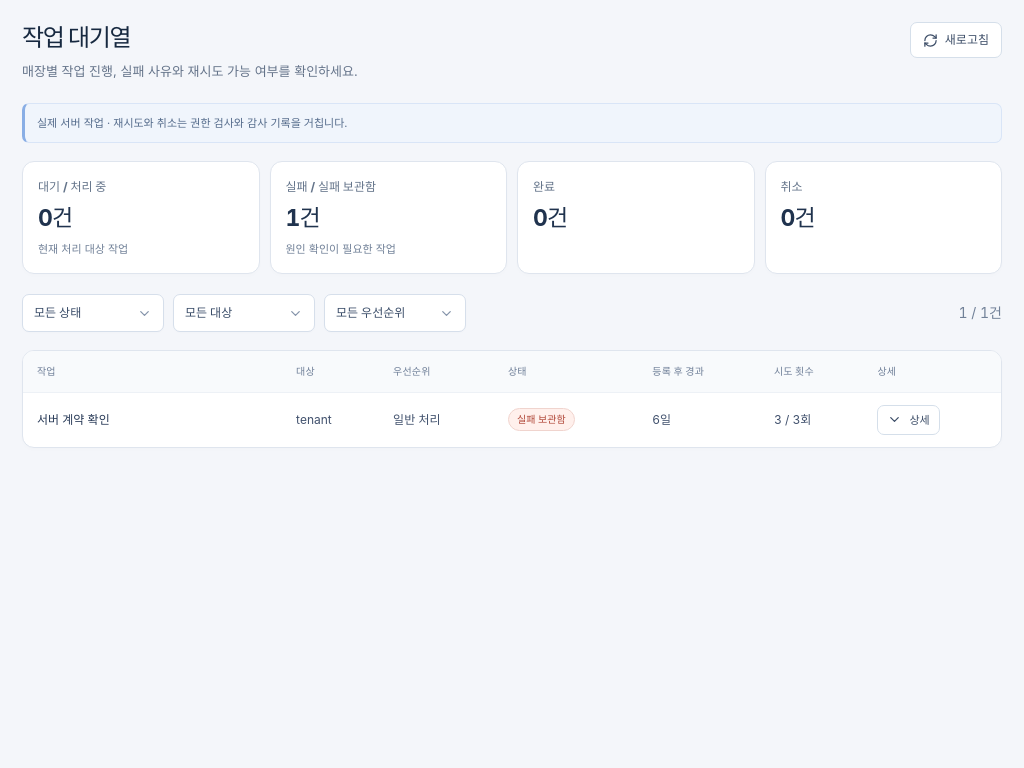
실제 Queue HTTP 화면 › 서버 상세와 disabled 사유를 표시하고 같은 요청의 네트워크 재시도 키를 유지한다
Expected: the text "서버 계약 확인" is shown, [23, 392, 282, 447]
Click the button "상세": (909, 420) [877, 405, 940, 435]
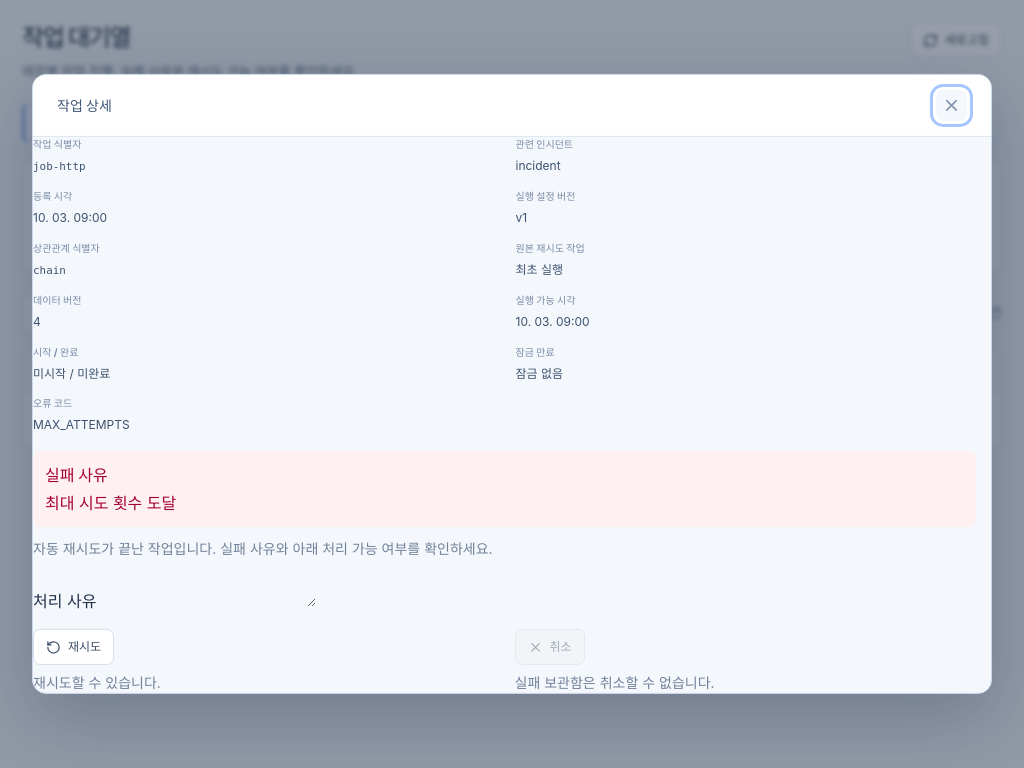
Result: the dialog is shown
Result: the text "실패 보관함은 취소할 수 없습니다." is shown at [514, 674, 715, 691]
Result: the button "취소" is disabled at [514, 629, 585, 665]
In the text box named "작업 처리 사유": (206, 583) [96, 559, 316, 607], type "원인을 확인했습니다."
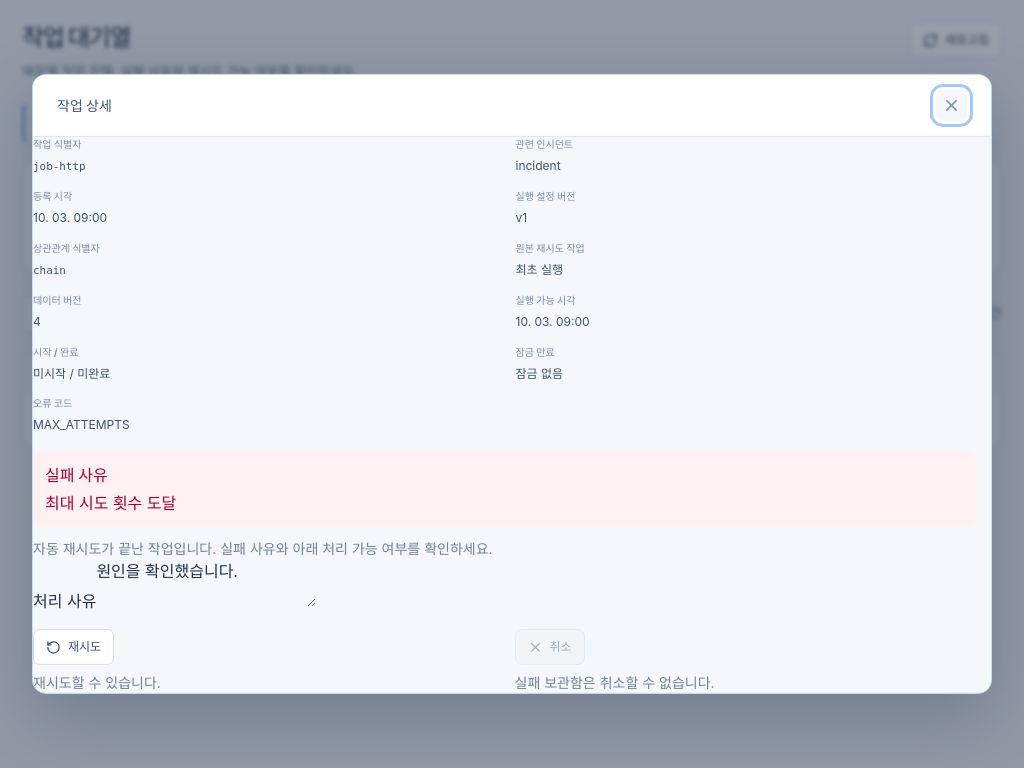
Click the button "재시도": (74, 647) [33, 629, 114, 665]
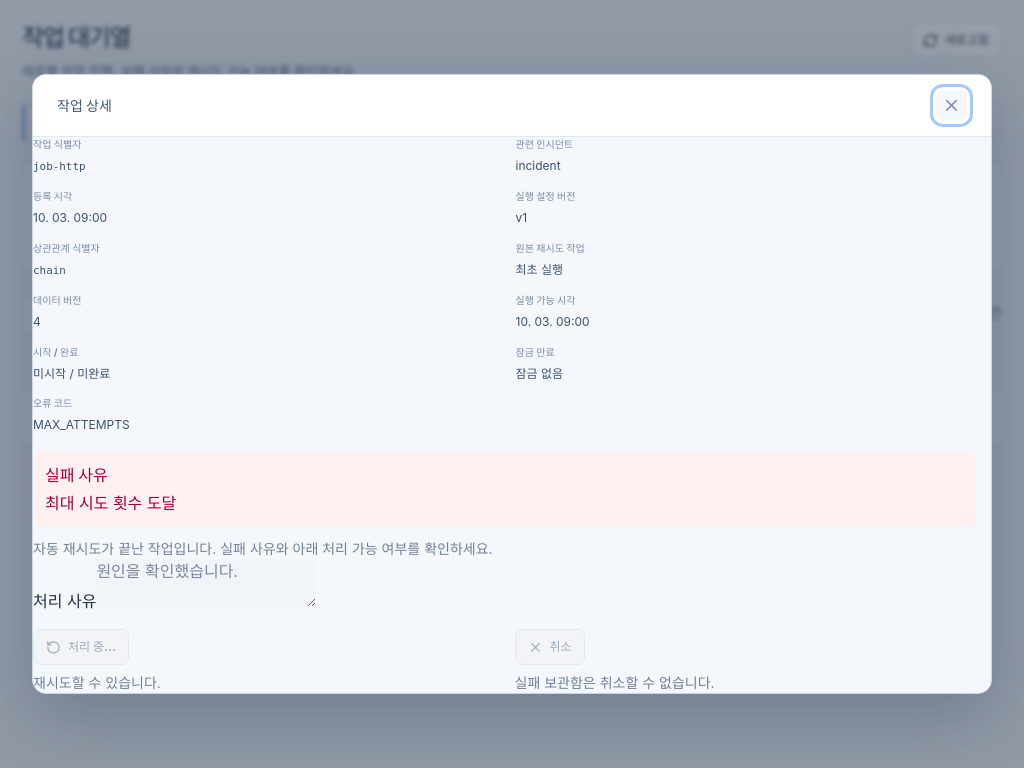
Click the button named "재시도": (81, 647) [33, 629, 129, 665]
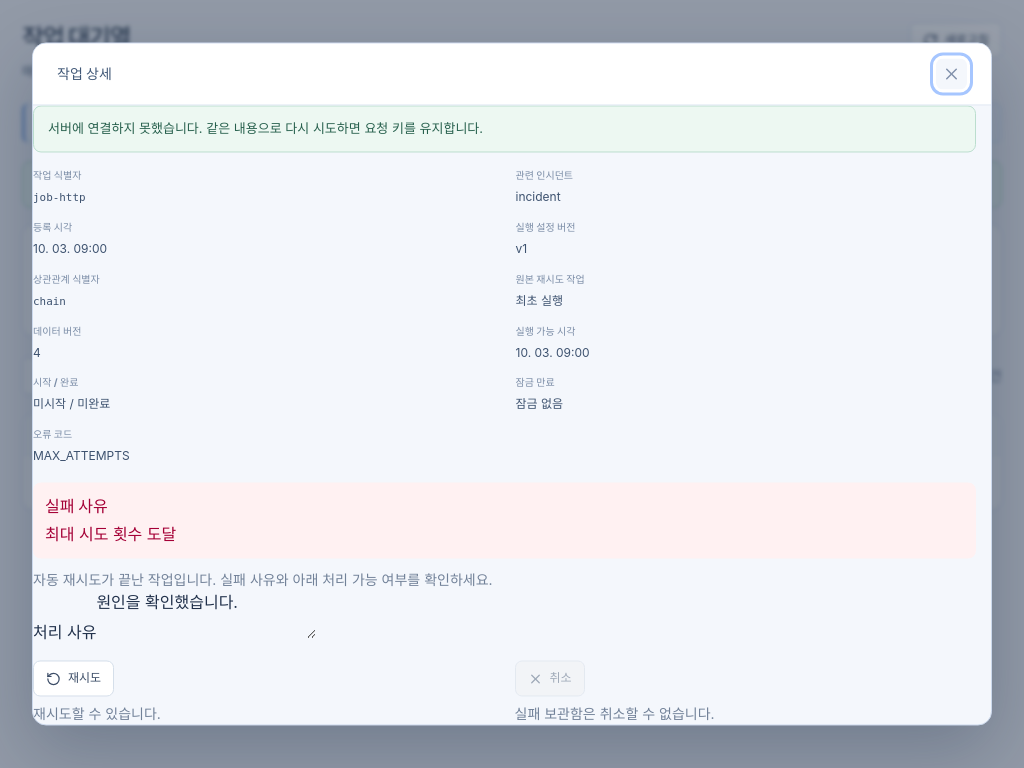
Result: the button "재시도" is enabled
Click the button "재시도": (74, 678) [33, 660, 114, 696]
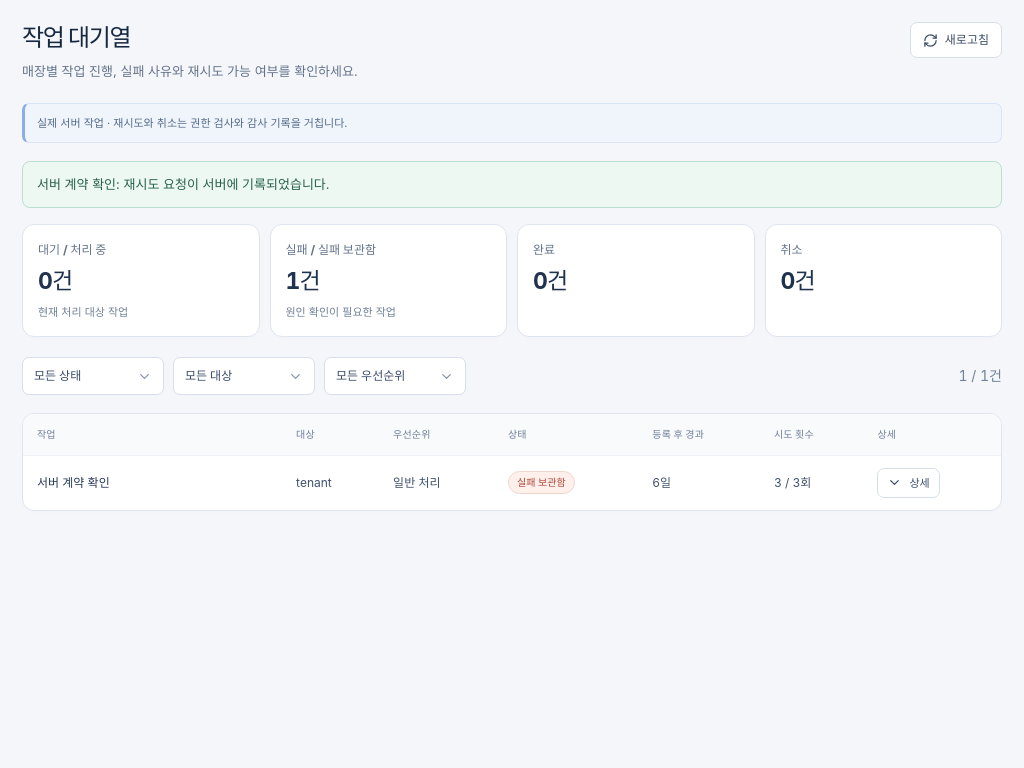
Result: the text "서버 계약 확인: 재시도 요청이 서버에 기록되었습니다." is shown at [22, 161, 1002, 208]
